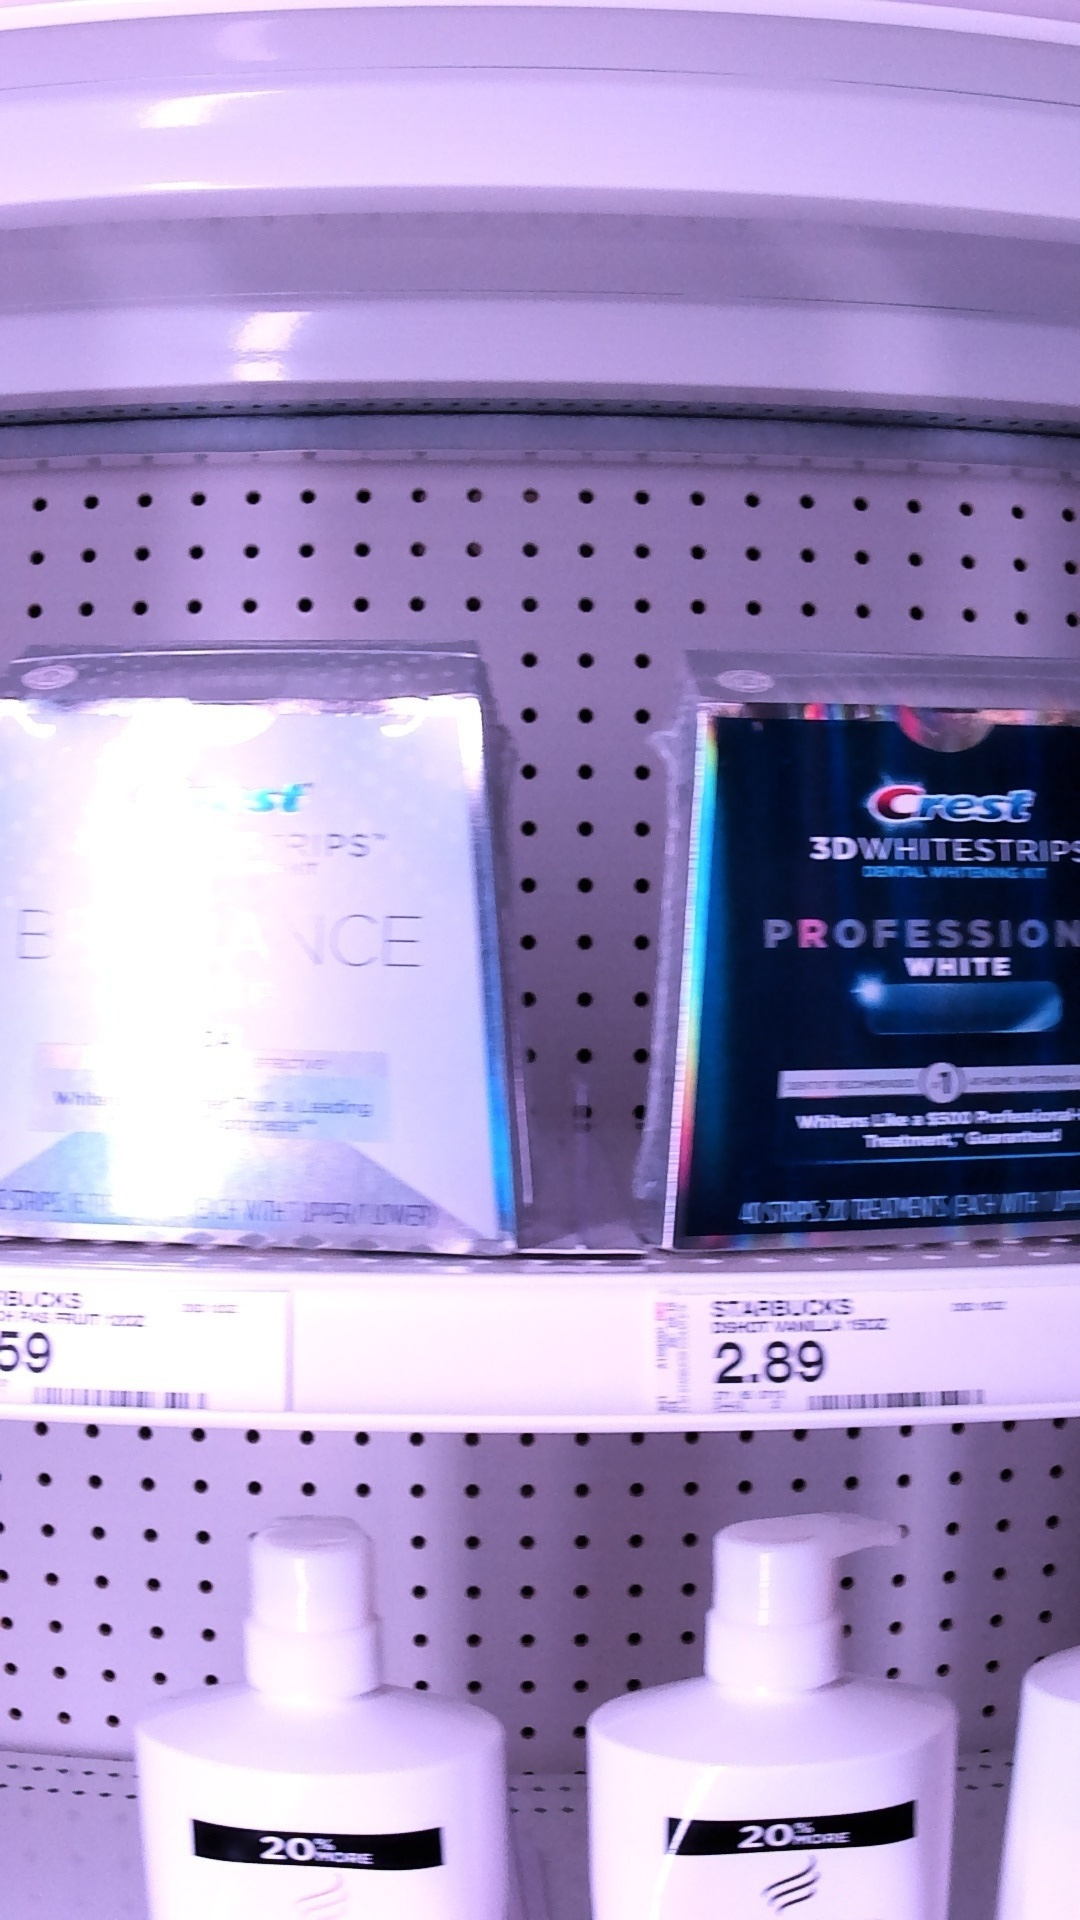ptag: (649, 1271, 1035, 1415), (1, 1273, 293, 1411)
